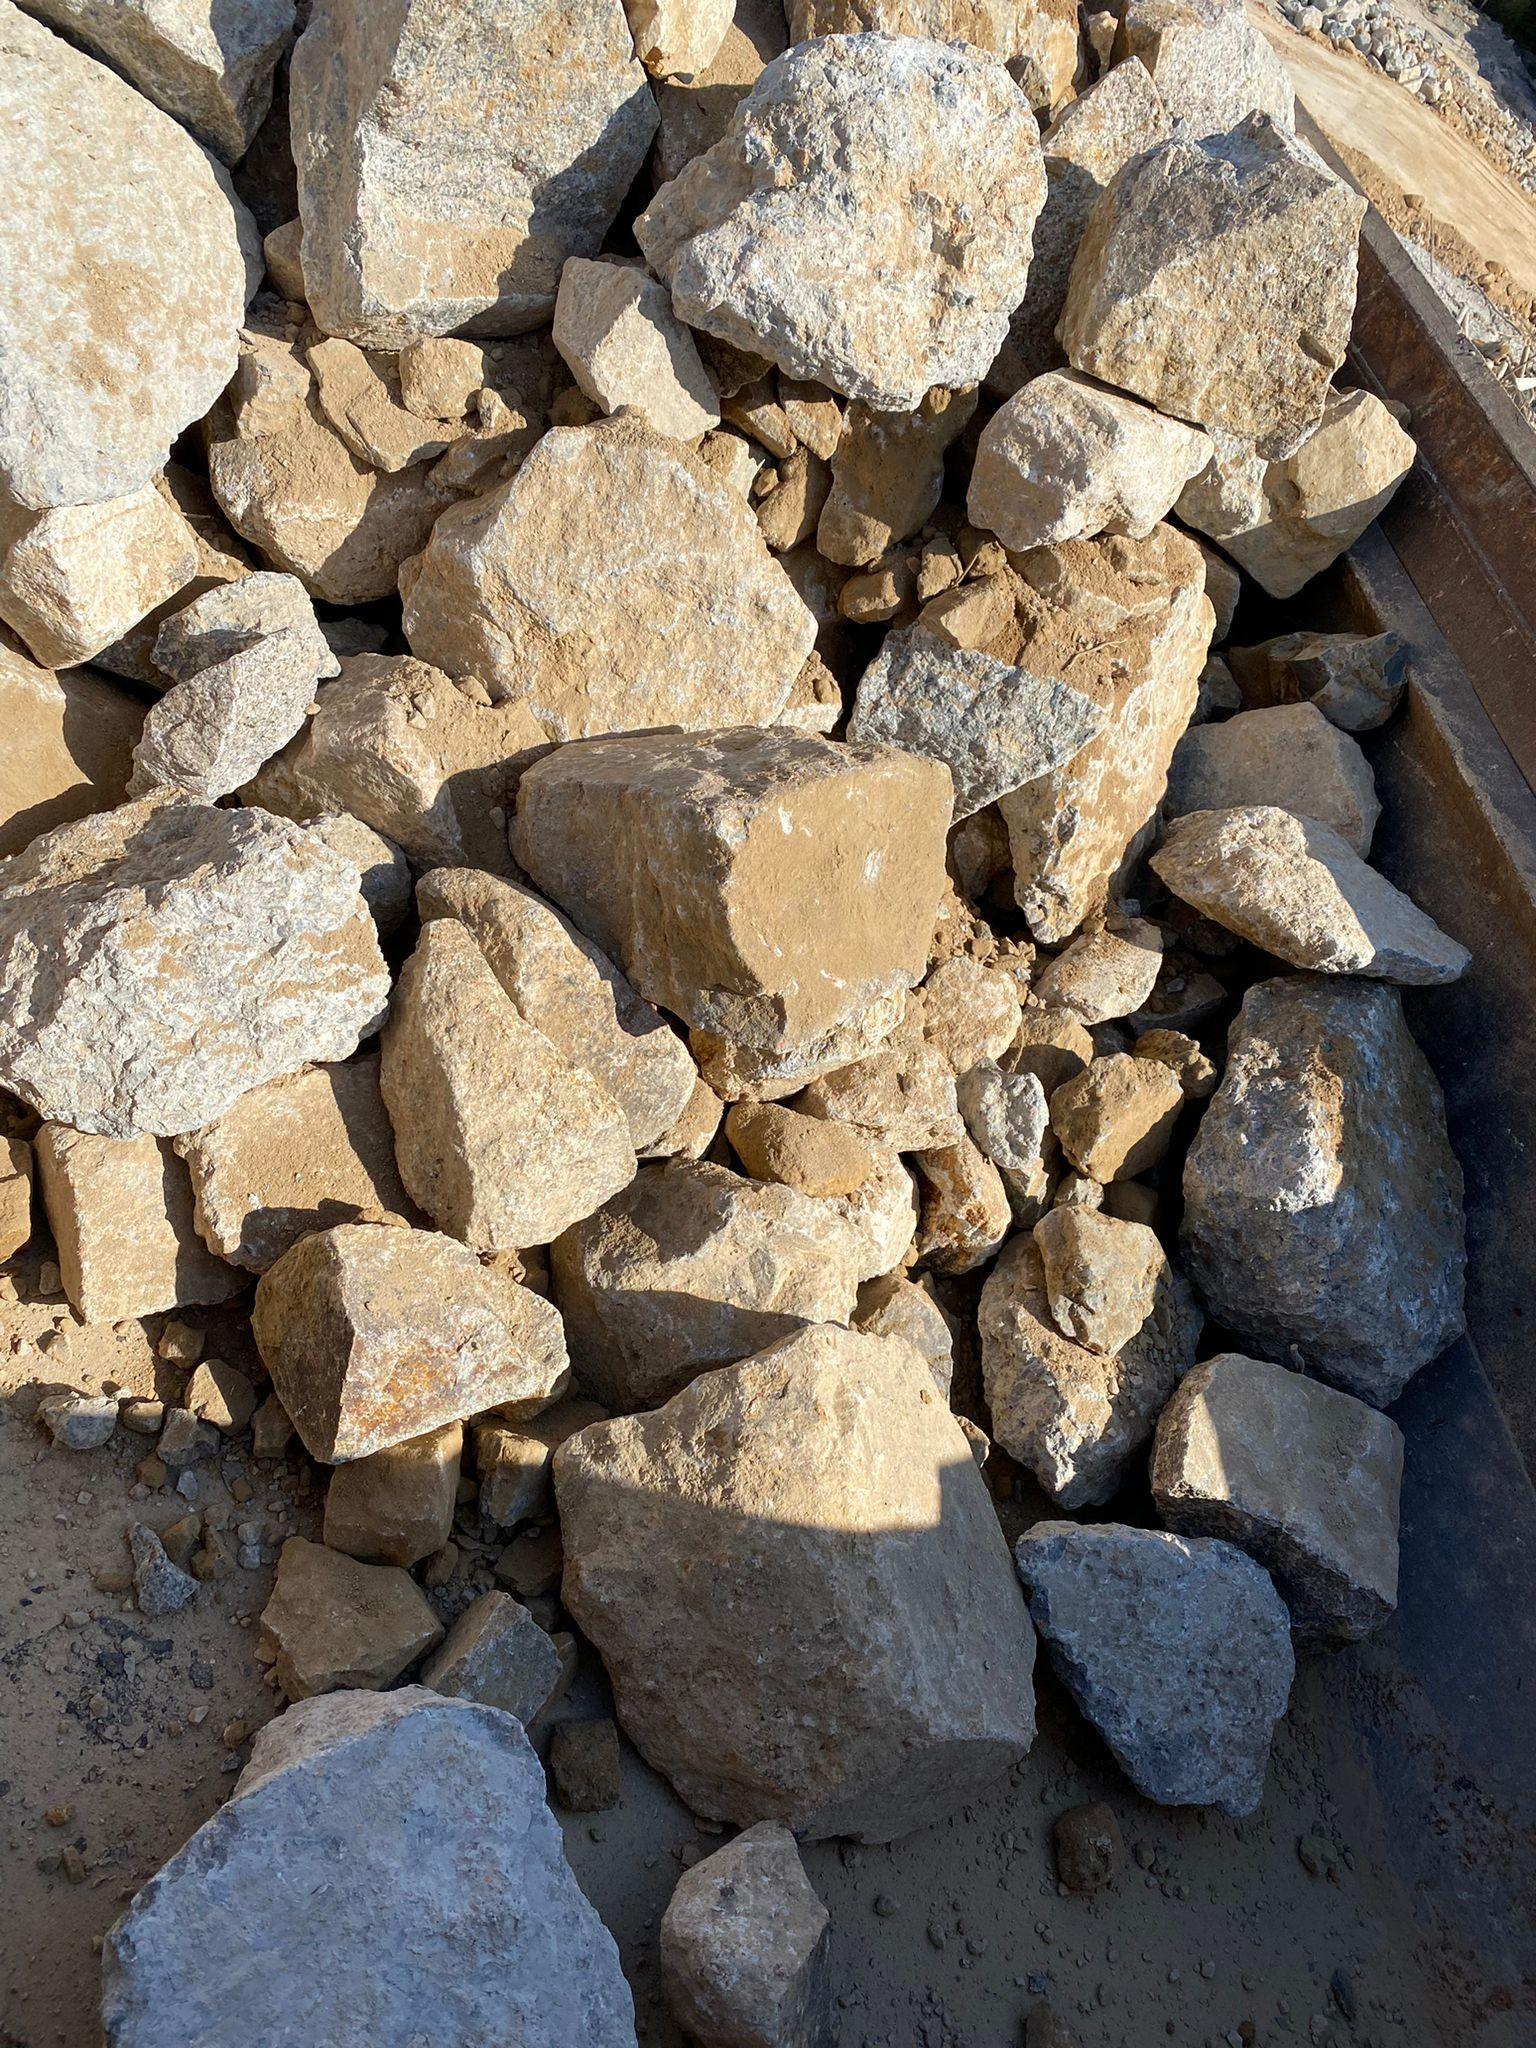stone: (0, 0, 1512, 2041), (549, 1321, 1039, 1844), (96, 1683, 639, 2045), (506, 720, 957, 1101), (631, 28, 1050, 414), (0, 790, 392, 1140), (0, 1, 257, 513), (284, 0, 660, 349), (1174, 971, 1470, 1407), (1012, 1516, 1297, 1817), (248, 1219, 573, 1465), (656, 1819, 833, 2045)
